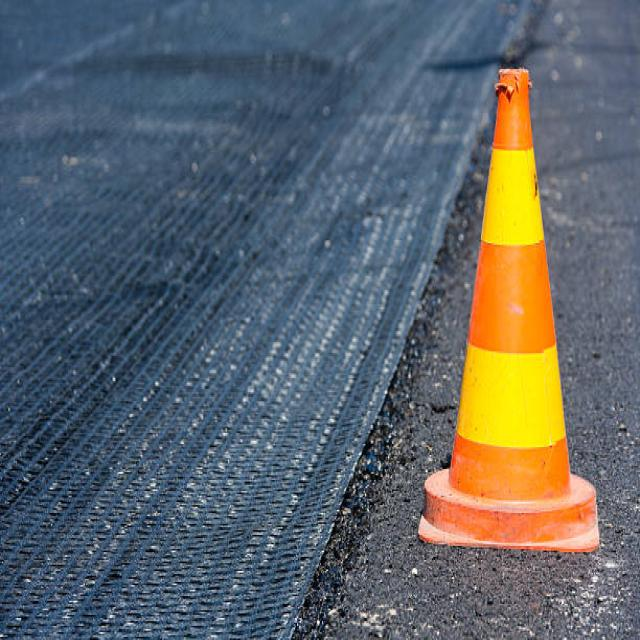Traffic Cone: (392, 28, 628, 598)
